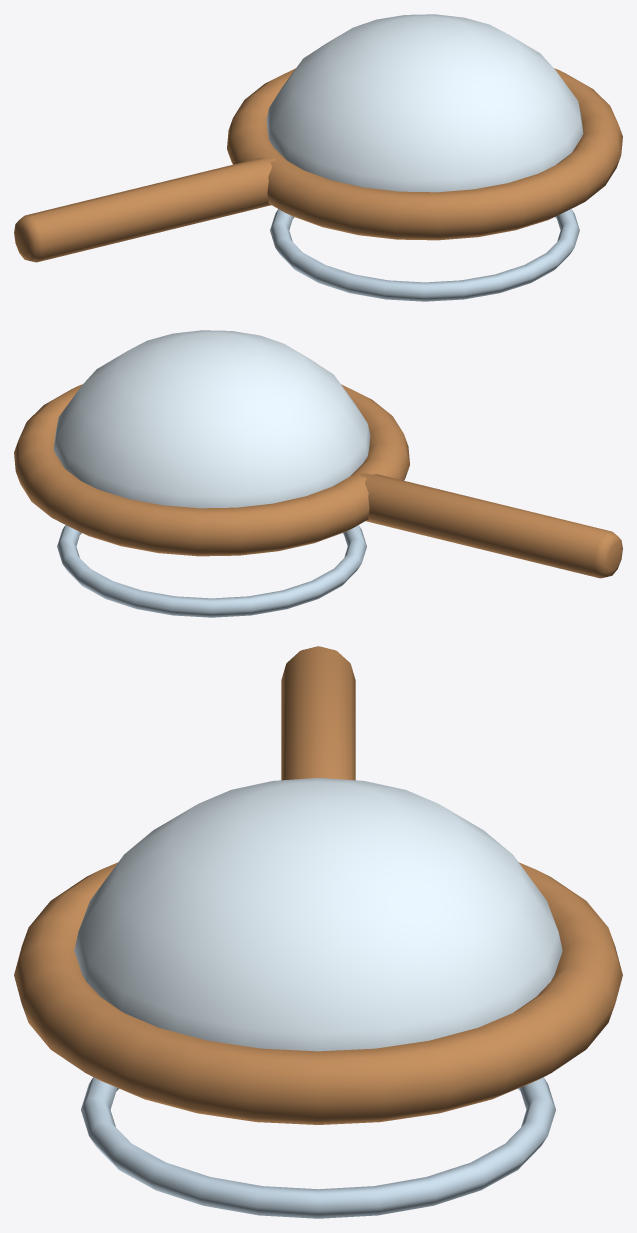
The model's file is ui_net.glb.
3 views of the same model, one above another, from view 1: azimuth 30°, elevation 25°; view 2: azimuth 150°, elevation 25°; view 3: azimuth 270°, elevation 25° (orthographic). The views are drawn at different scales.
Visible parts, largest first — view 1: ui_net; view 2: ui_net; view 3: ui_net.
Boxes of the visible parts, x1,y1,x2,y2 form: ui_net: (14, 14, 622, 301); ui_net: (14, 330, 622, 617); ui_net: (14, 646, 622, 1218).
Bounding box in the file's own units: 1.37 × 0.4693 × 0.82.
